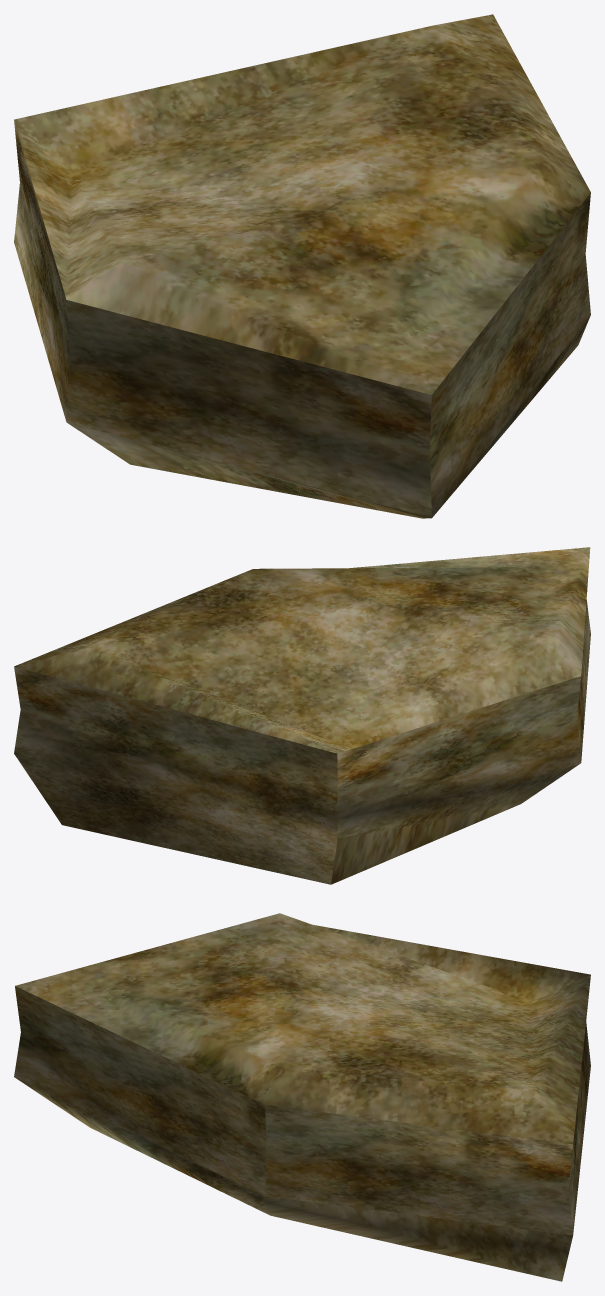
File: TROLLHOLE02_RM_FALL_ROCK05.fbx
3 renders of one model, top to bottom at view 1: azimuth 30°, elevation 25°; view 2: azimuth 150°, elevation 25°; view 3: azimuth 270°, elevation 25°, orthographic. The views are drawn at different scales.
Parts seen in each view (by area): view 1: TROLLHOLE02_RM_FALL_ROCK05; view 2: TROLLHOLE02_RM_FALL_ROCK05; view 3: TROLLHOLE02_RM_FALL_ROCK05.
Boxes of the visible parts, box(x1,y1,x2,y2) form: TROLLHOLE02_RM_FALL_ROCK05: box(14, 14, 590, 518); TROLLHOLE02_RM_FALL_ROCK05: box(14, 547, 590, 884); TROLLHOLE02_RM_FALL_ROCK05: box(14, 913, 590, 1281).
Size of the model in its own units: 15691 by 7153 by 17188.
Materials: 1 (1 with a texture image).
